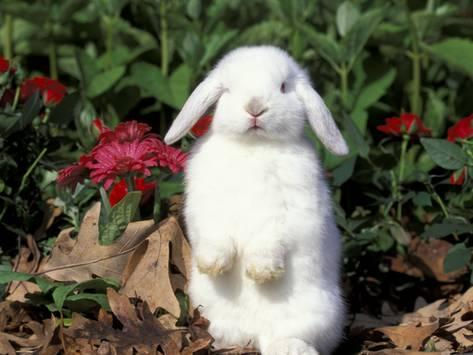bunny: (147, 32, 367, 355)
